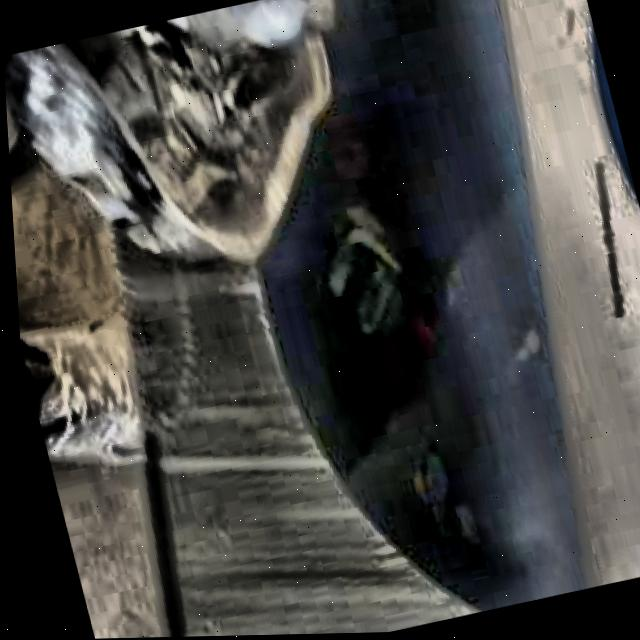metal: (3, 0, 333, 260)
